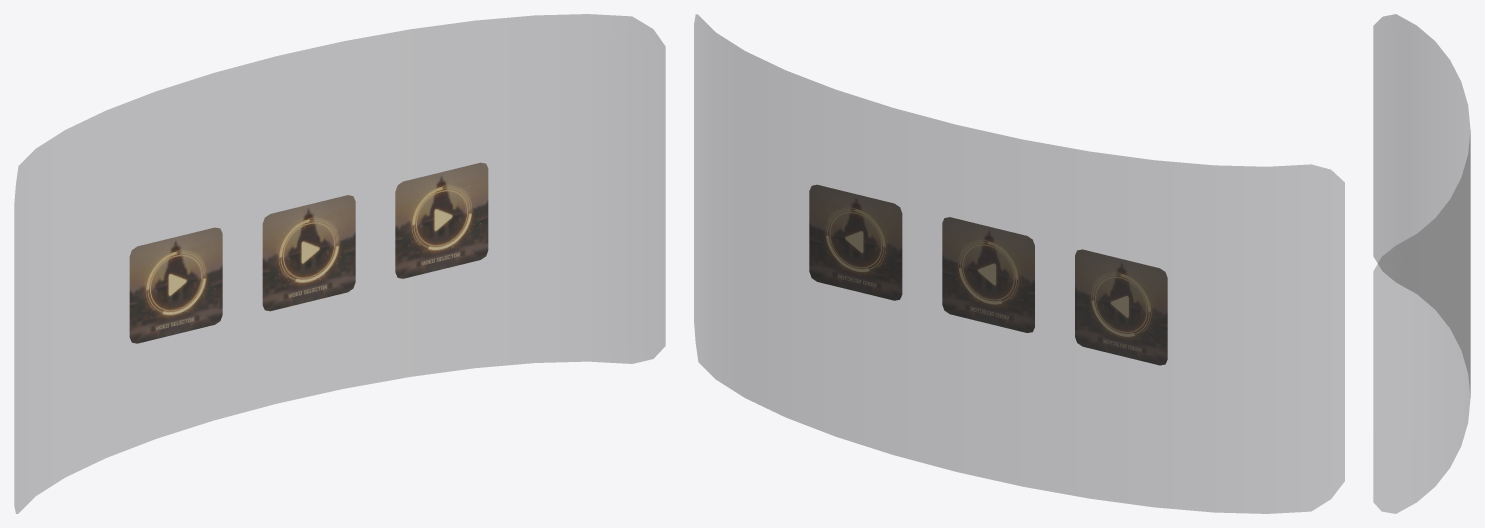
The model's file is home_ui.glb.
The picture shows the model from 3 angles, left to right: view 1: azimuth 30°, elevation 25°; view 2: azimuth 150°, elevation 25°; view 3: azimuth 270°, elevation 25°; orthographic projection. The views are drawn at different scales.
Parts seen in each view (by area): view 1: Cylinder, Plane, Plane.001, Plane.002; view 2: Cylinder, Plane.001, Plane, Plane.002; view 3: Cylinder.
Part boxes in pixels (x1,y1,x2,y2): Cylinder: (14,14,665,513); Plane: (262,195,355,311); Plane.001: (395,162,488,278); Plane.002: (129,227,222,343); Cylinder: (694,14,1344,513); Plane.001: (809,185,902,300); Plane: (942,217,1034,332); Plane.002: (1075,249,1167,365); Cylinder: (1373,14,1470,513).
Size of the model in its own units: 9.81 by 5 by 1.64.
Materials: 2 (1 with a texture image).
